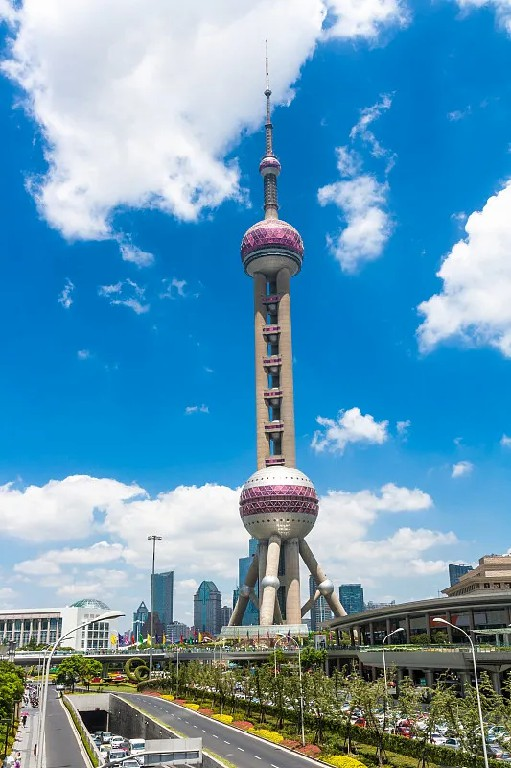Oriental: (228, 40, 347, 626)
